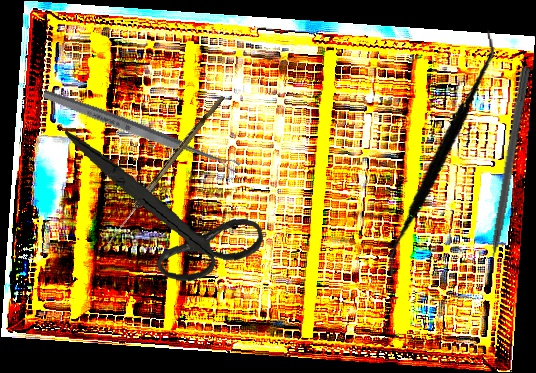Iris Scissors: (53, 130, 271, 288)
Pusher: (480, 64, 532, 288)
Spatula Surgical: (360, 29, 520, 277)
Surgical Spoon: (104, 92, 225, 249), (41, 87, 241, 175)
